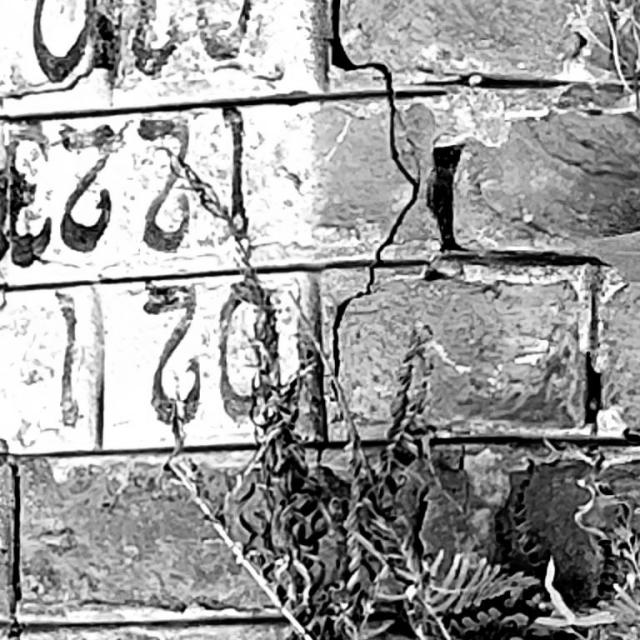crack: (331, 1, 420, 377)
